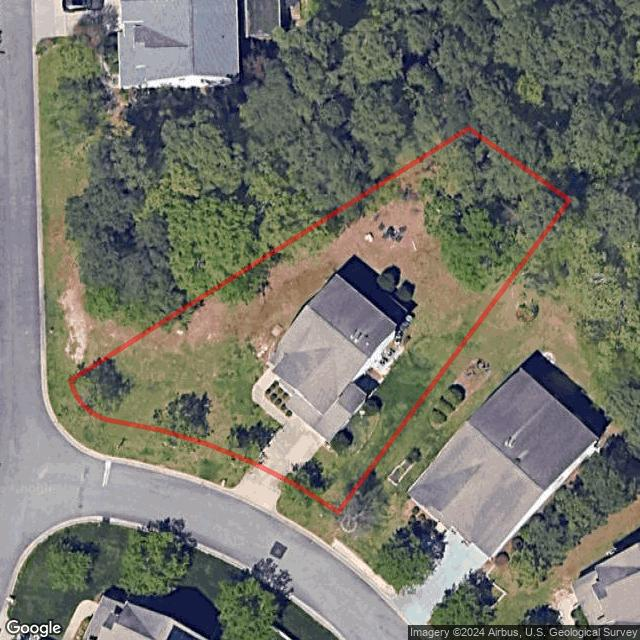Driveway: (254, 414, 326, 482)
Extra-Driveway: (228, 463, 292, 516)
Extra-Lawn: (48, 381, 252, 488), (277, 483, 337, 538)
House: (268, 274, 397, 442)
Lawn: (70, 129, 568, 511)
Other: (335, 253, 419, 340), (365, 337, 406, 384), (265, 380, 293, 417)
Sidewalk: (252, 369, 290, 426)
